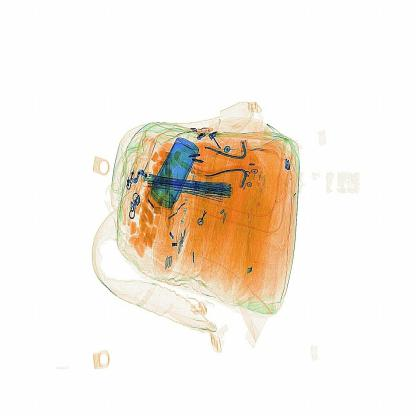pliers: (160, 145, 186, 235)
